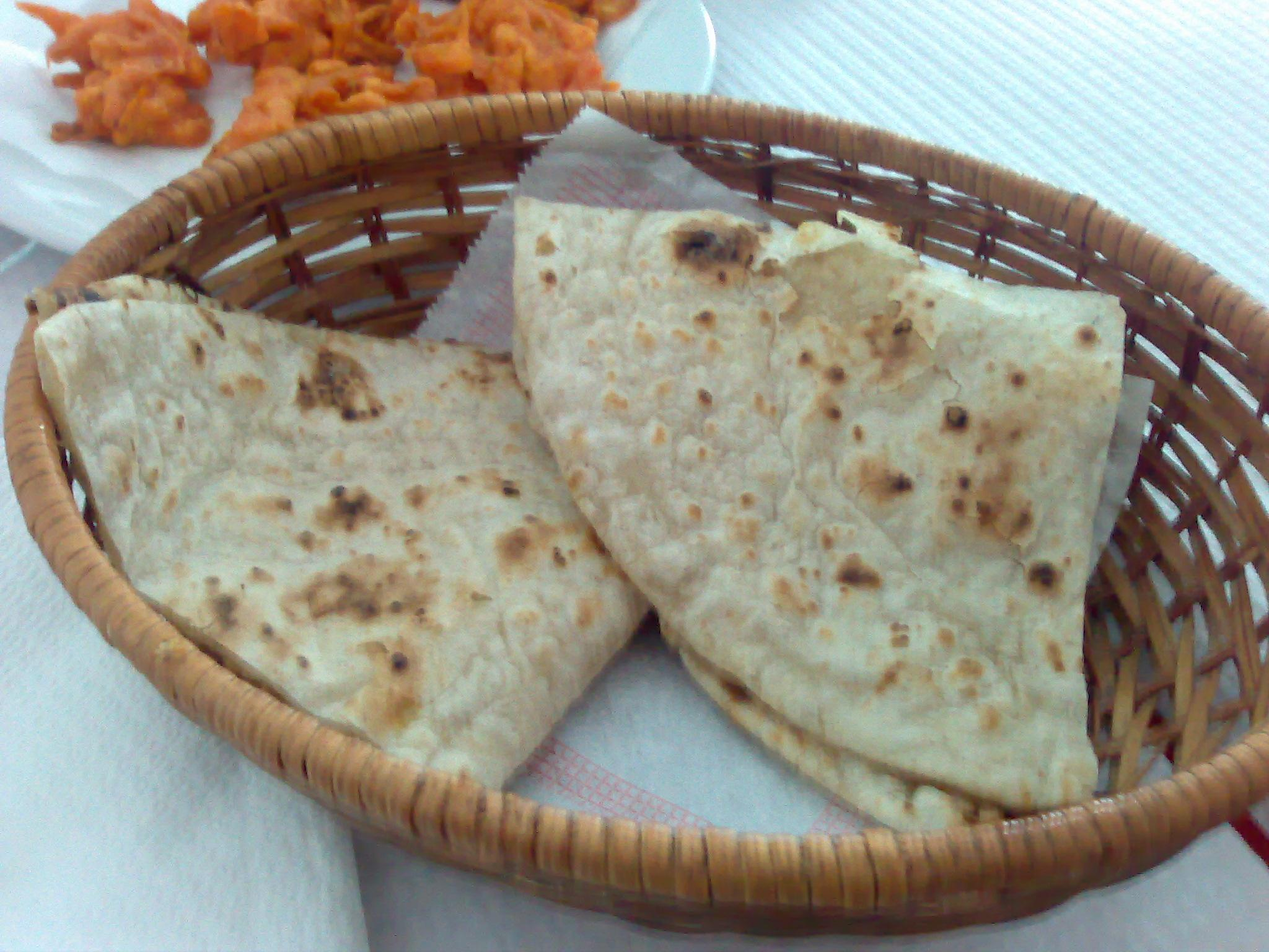roti: (31, 192, 1135, 827)
